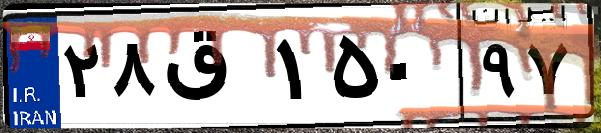0: (385, 28, 445, 110)
1: (270, 28, 330, 110)
2: (57, 26, 110, 100)
5: (330, 28, 385, 110)
7: (525, 38, 570, 115)
8: (110, 28, 158, 98)
9: (475, 38, 525, 113)
ق: (158, 20, 270, 120)
